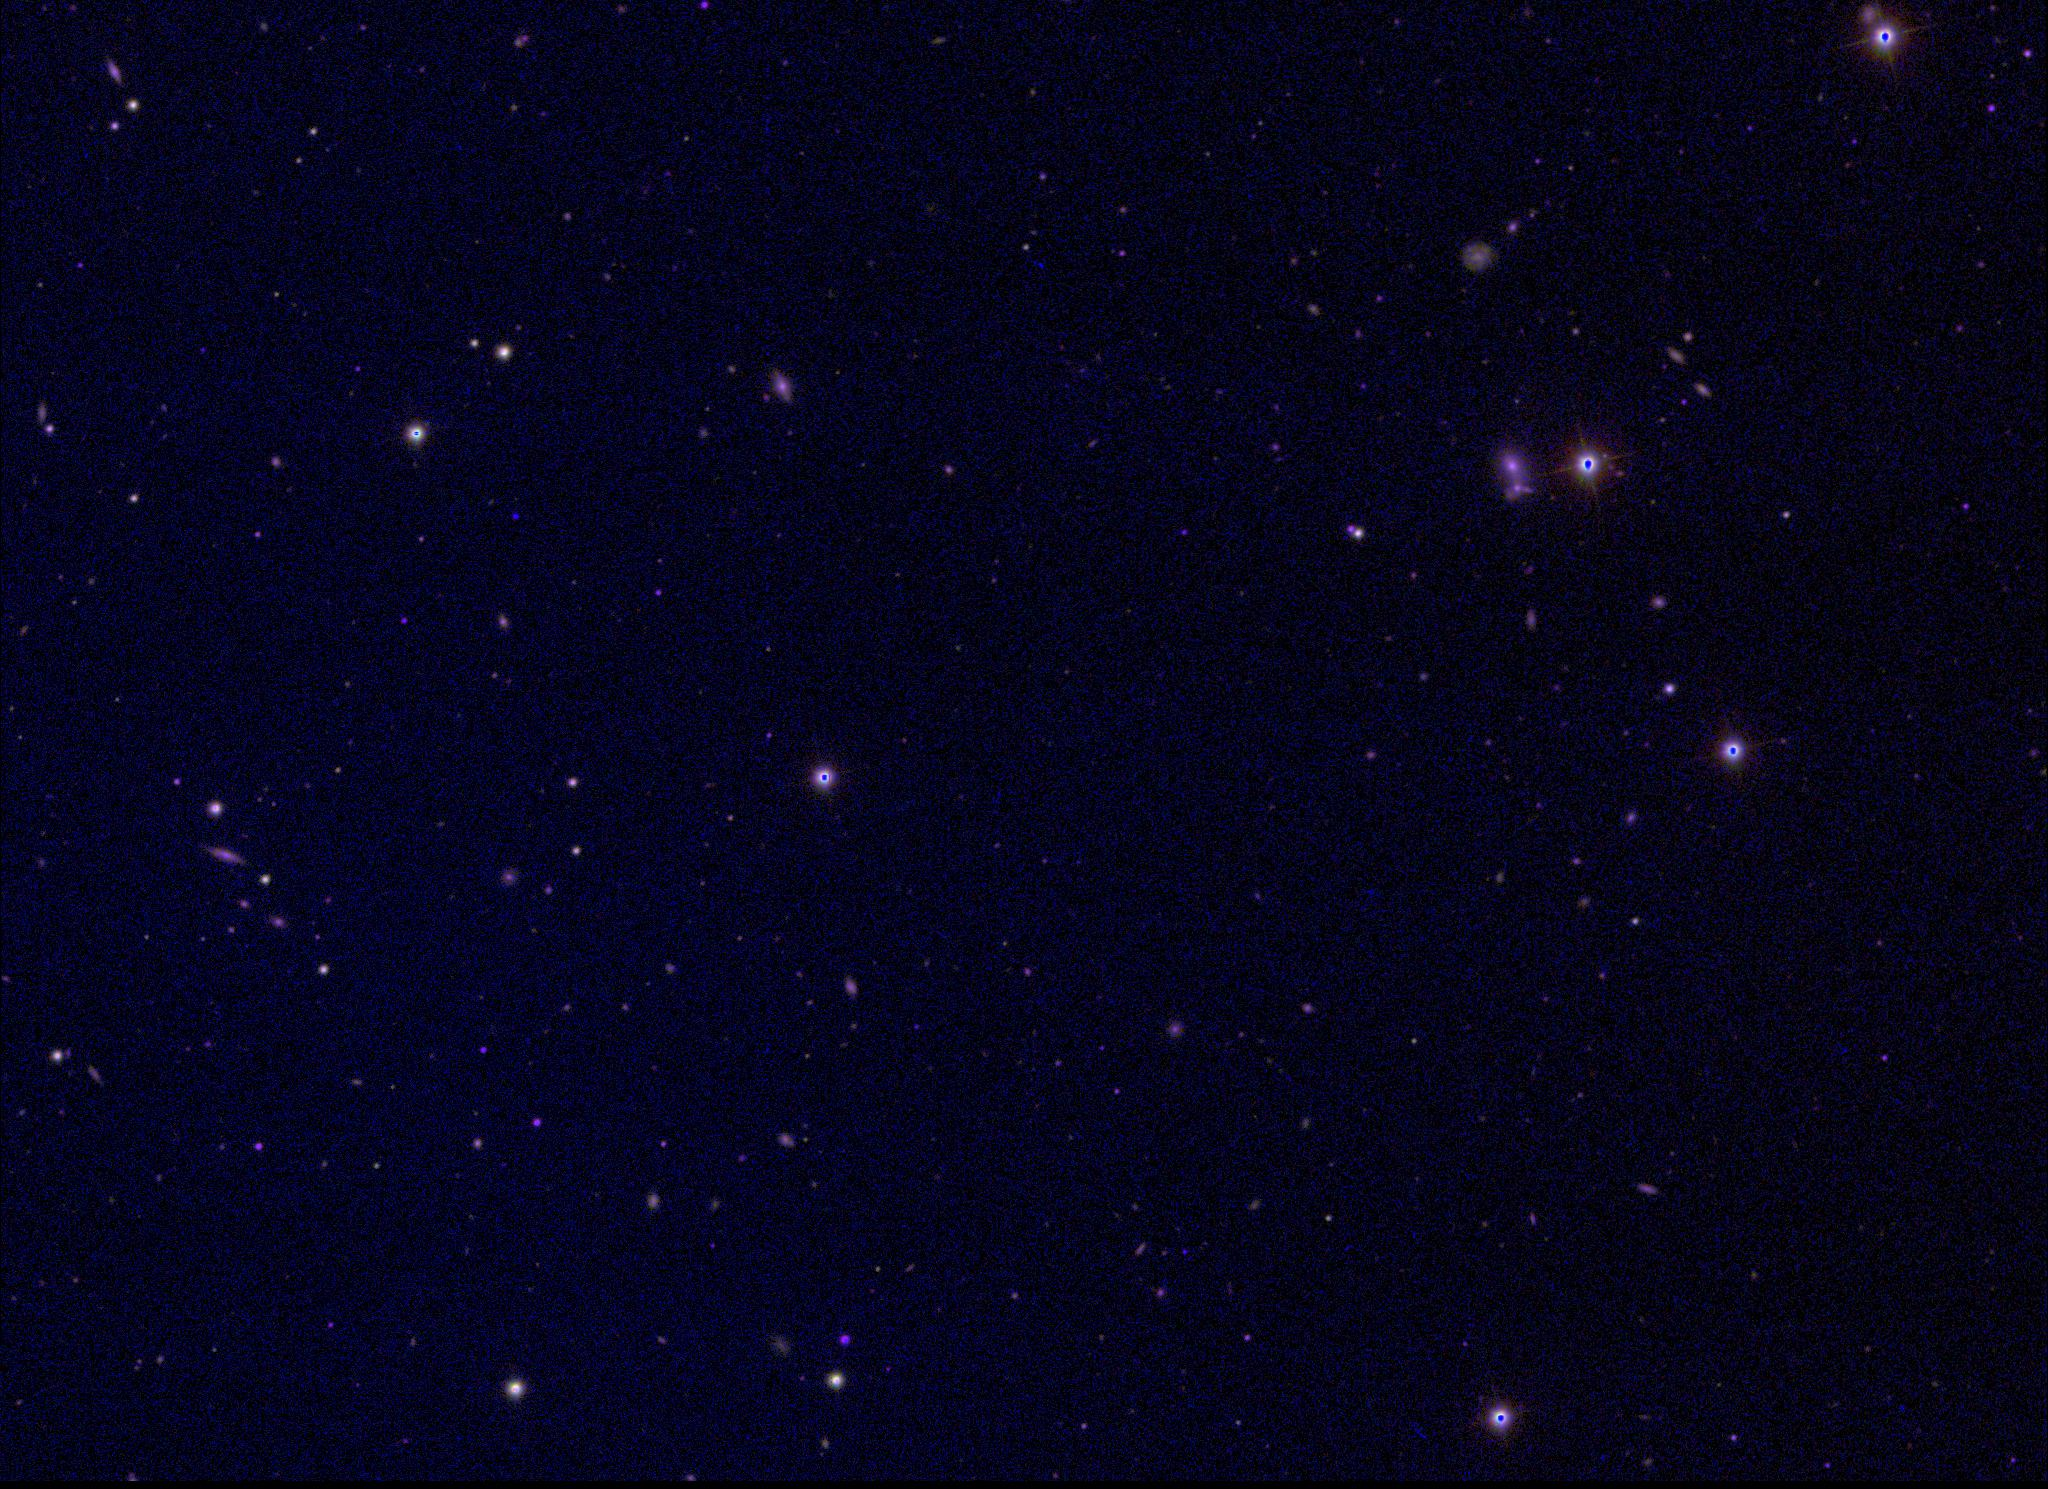L: (507, 509, 522, 523)
